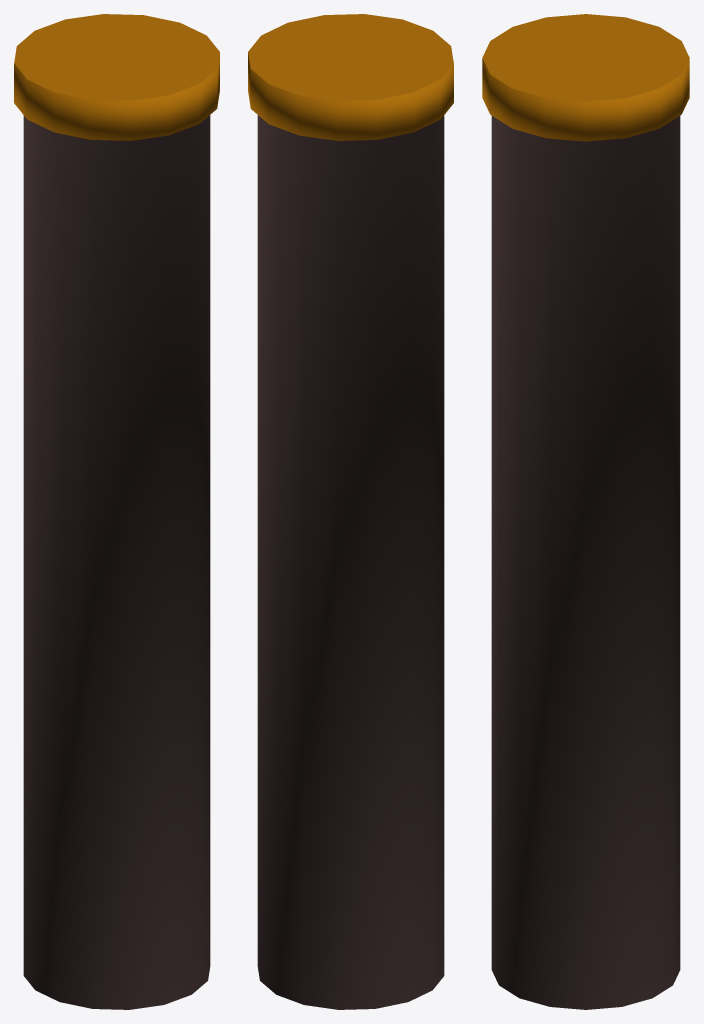
File: Railing Bannister.fbx
3 renders of one model, left to right at view 1: azimuth 30°, elevation 25°; view 2: azimuth 150°, elevation 25°; view 3: azimuth 270°, elevation 25°, orthographic.
Parts seen in each view (by area): view 1: Railing Bannister; view 2: Railing Bannister; view 3: Railing Bannister.
Boxes of the visible parts, left/top/right/bottom form: Railing Bannister: left=14, top=14, right=219, bottom=1009; Railing Bannister: left=248, top=14, right=453, bottom=1009; Railing Bannister: left=482, top=14, right=689, bottom=1009.
Size of the model in its own units: 22 by 107 by 22.
